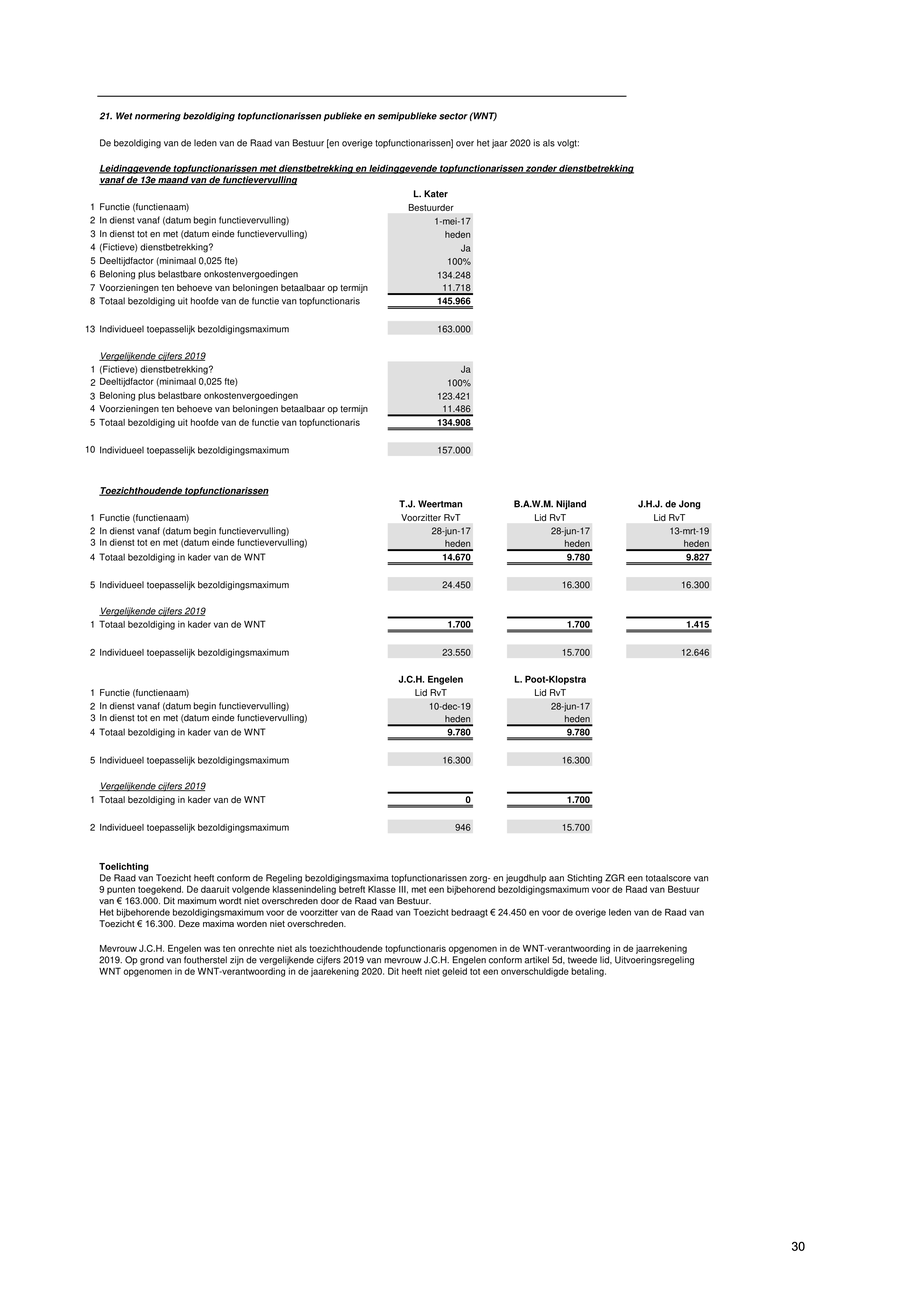coulmn: (82, 485, 315, 834), (86, 200, 367, 459), (498, 494, 604, 839), (383, 497, 486, 835), (381, 184, 474, 461), (622, 498, 723, 666)
